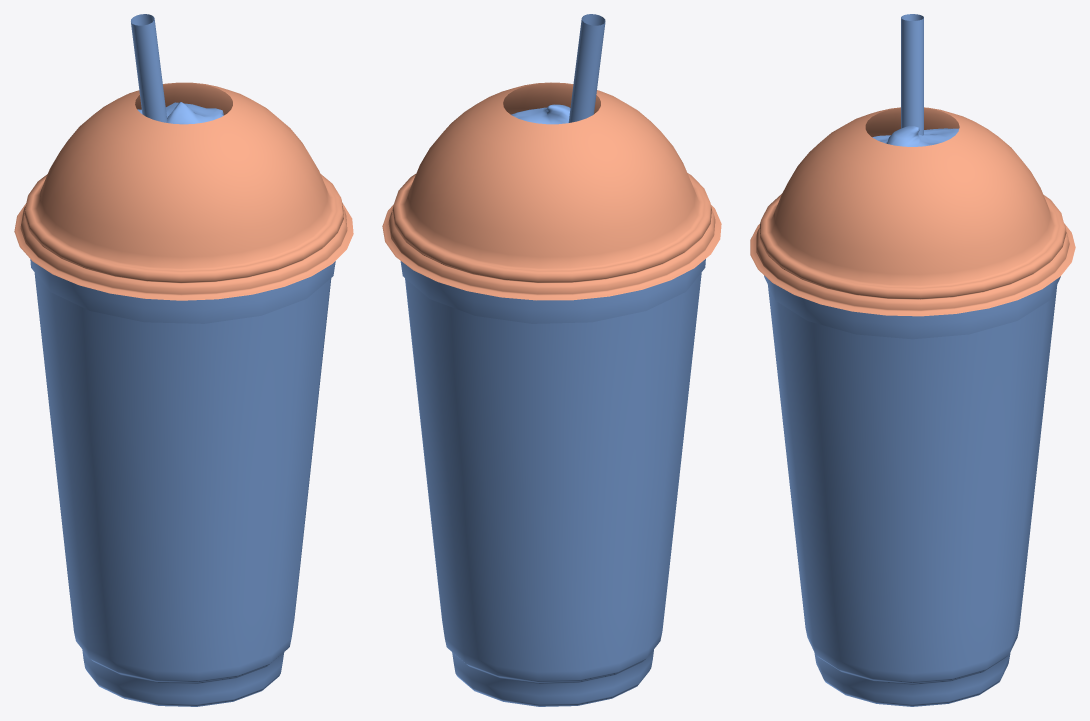
3 views of the same model, side by side, from view 1: azimuth 30°, elevation 25°; view 2: azimuth 150°, elevation 25°; view 3: azimuth 270°, elevation 25° (orthographic). The views are drawn at different scales.
Visible parts, largest first — view 1: Merged_PolySphere_2 (×2); view 2: Merged_PolySphere_2 (×2); view 3: Merged_PolySphere_2 (×2).
Part boxes in pixels (bbox=[...]): Merged_PolySphere_2 (×2): bbox=[14, 14, 353, 706]; Merged_PolySphere_2 (×2): bbox=[382, 14, 721, 706]; Merged_PolySphere_2 (×2): bbox=[750, 14, 1075, 706].
Size of the model in its own units: 0.3726 by 0.7968 by 0.3721.
